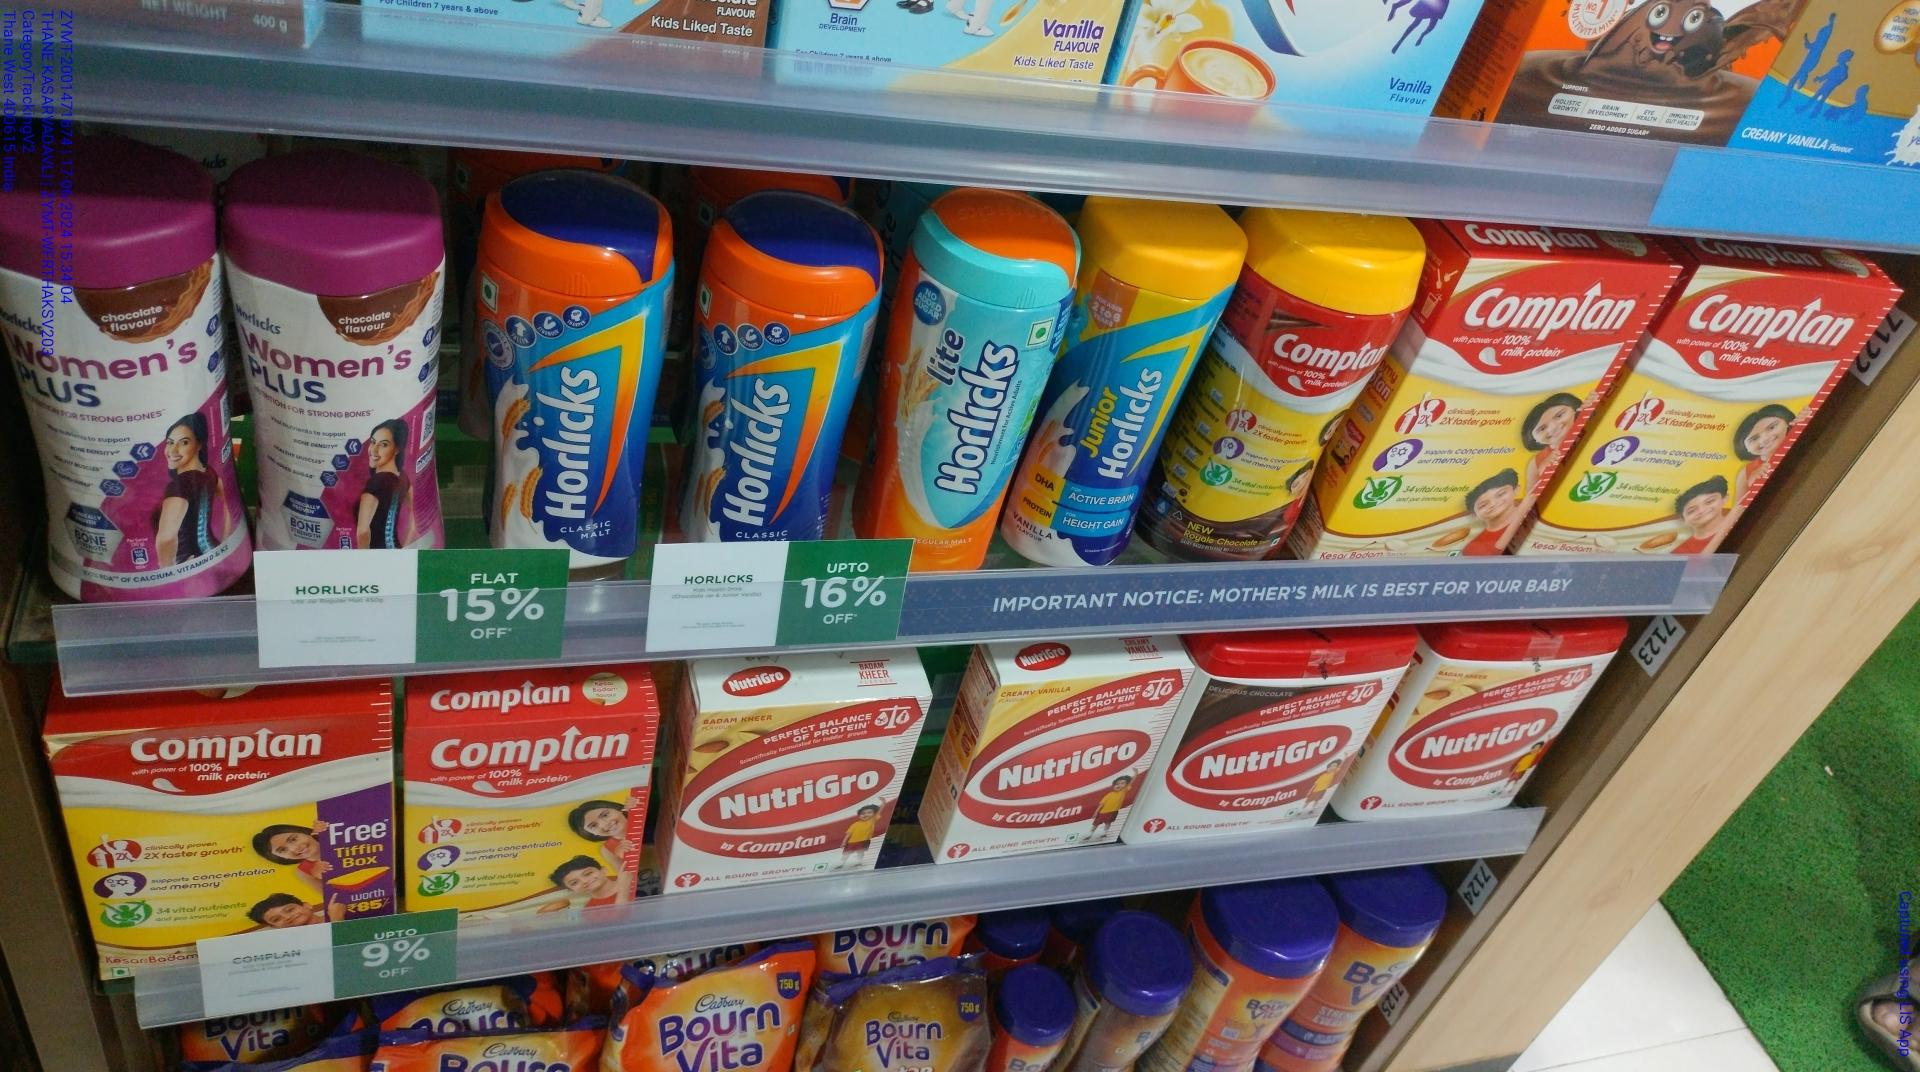COMPLAN_CHOCOLATE_500_GMS_PACK: (63, 712, 393, 938)
COMPLAN_KESAR_BADAM_500_GMS_PACK: (406, 703, 657, 931)
HORLICKS_JUNIOR_VANILLA_500_GM_JAR: (1060, 200, 1213, 571)
HORLICKS_LITE_REGULAR_MALT_500_GM_JAR: (884, 185, 1059, 575)
HORLICK_CLASSIC_MALT_500_G_JAR: (477, 171, 650, 562), (686, 185, 869, 529)
